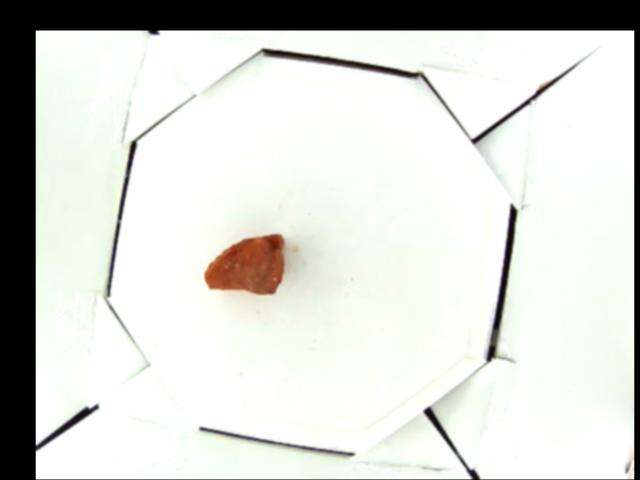Brisk: (201, 234, 285, 295)
